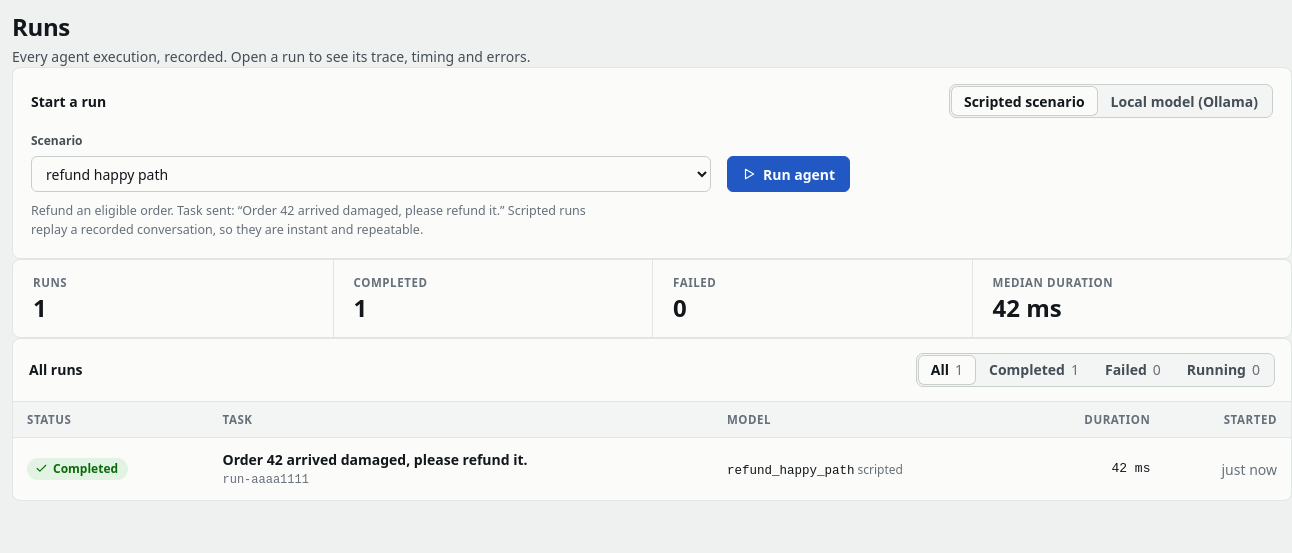
Test: RunsPage › shows the reason when a run cannot be started
The image size is (1292, 553).
Step 1. Click the button "Run agent" → point(789, 174), box [727,156,850,192]
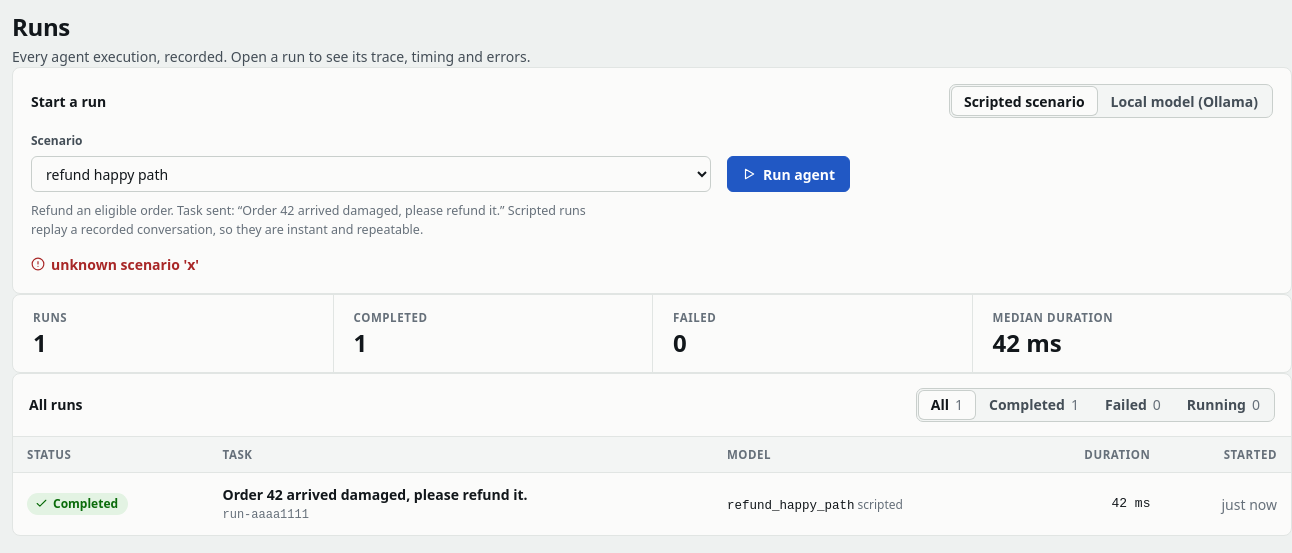
Result: the message reads "unknown scenario 'x'" at [51,254,199,274]
